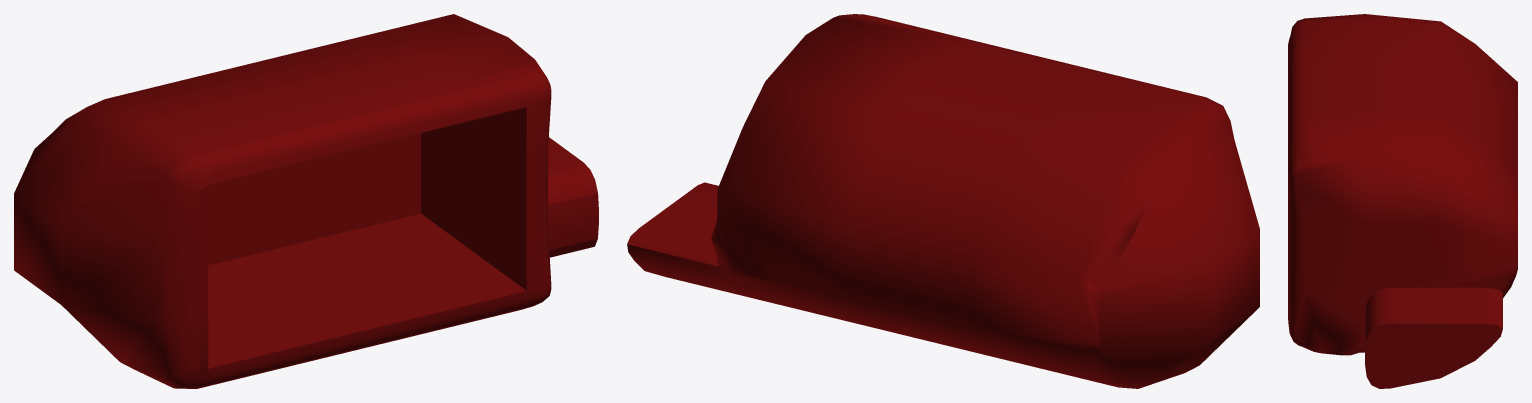
Rendered from left mirror shell.fbx.
3 renders of one model, left to right at view 1: azimuth 30°, elevation 25°; view 2: azimuth 150°, elevation 25°; view 3: azimuth 270°, elevation 25°, orthographic. The views are drawn at different scales.
Parts seen in each view (by area): view 1: Left side mirror shell; view 2: Left side mirror shell; view 3: Left side mirror shell.
Boxes of the visible parts, x1=… form: Left side mirror shell: x1=14, y1=14, x2=598, y2=388; Left side mirror shell: x1=627, y1=14, x2=1259, y2=388; Left side mirror shell: x1=1288, y1=14, x2=1517, y2=388.
Bounding box in the file's own units: 16.08 × 7 × 7.34.
